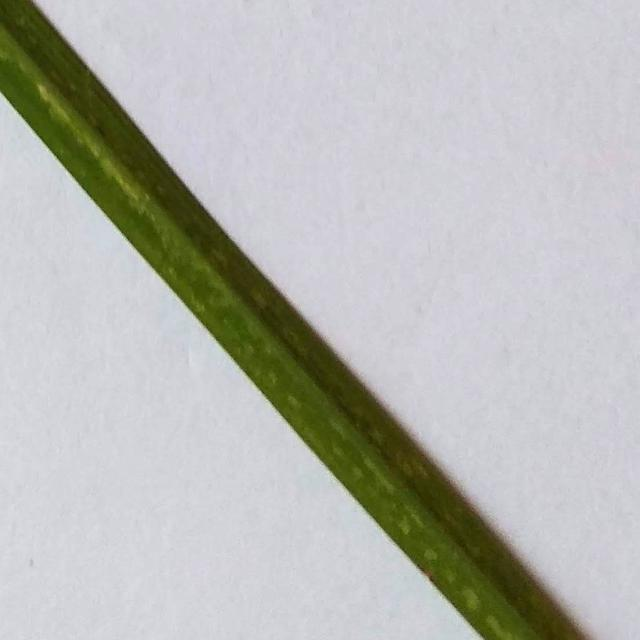Rice_Healthy: (0, 0, 587, 639)
